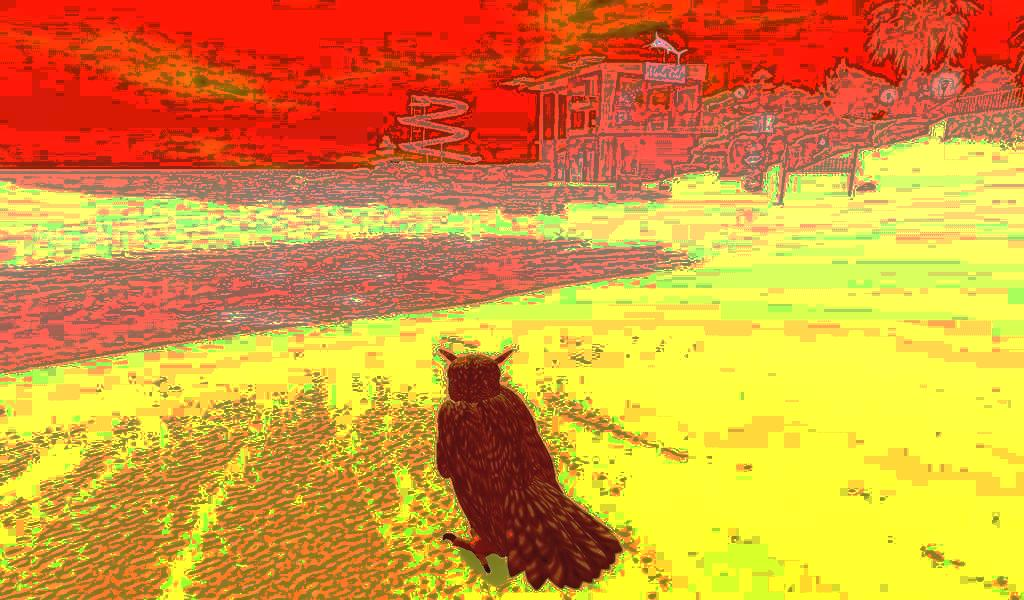Owl: (422, 347, 618, 567)
